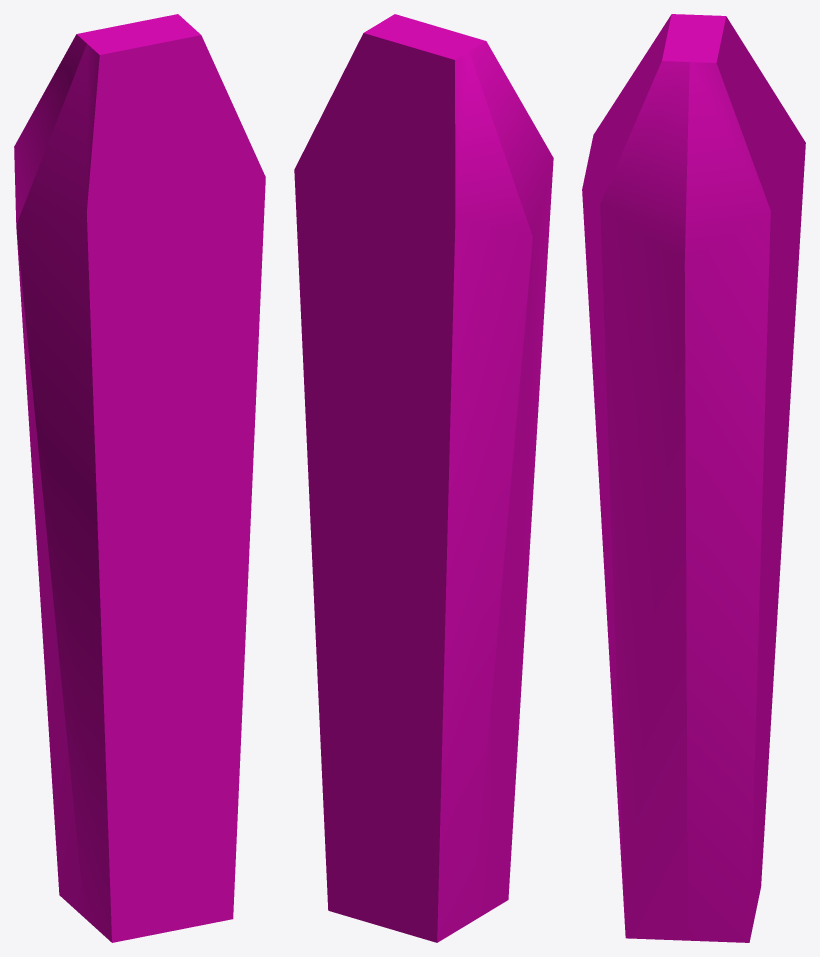
File: Big_Crystal_7_LOD.fbx
3 views of the same model, side by side, from view 1: azimuth 30°, elevation 25°; view 2: azimuth 150°, elevation 25°; view 3: azimuth 270°, elevation 25° (orthographic).
Parts seen in each view (by area): view 1: pCube76; view 2: pCube76; view 3: pCube76.
Part boxes in pixels (x1,y1,x2,y2): pCube76: [14, 14, 265, 942]; pCube76: [294, 14, 553, 942]; pCube76: [582, 14, 805, 942].
Bounding box in the file's own units: 2.66 × 9.51 × 2.22.
